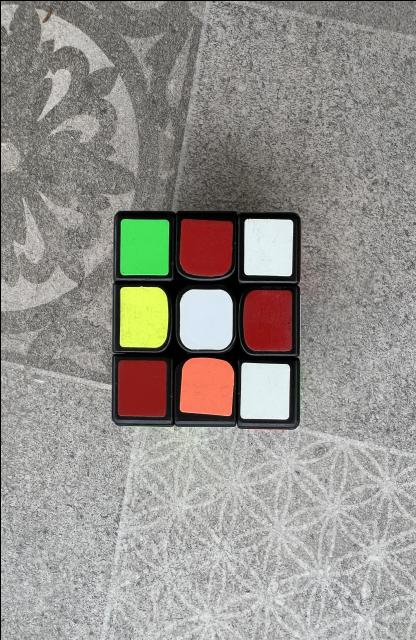Green: (119, 218, 168, 275)
Orange: (179, 356, 233, 415)
Red: (179, 218, 232, 275), (242, 289, 291, 350), (117, 359, 166, 416)
White: (179, 289, 232, 350), (239, 361, 289, 419), (243, 218, 292, 275)
Yellow: (119, 286, 168, 348)
